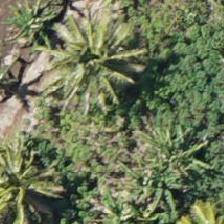coconut_tree: (39, 13, 129, 103)
